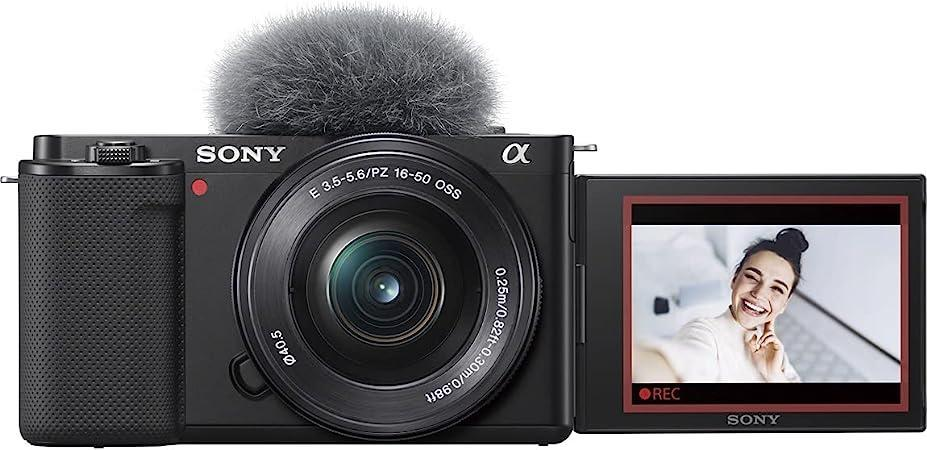degital-camera: (15, 124, 584, 447)
